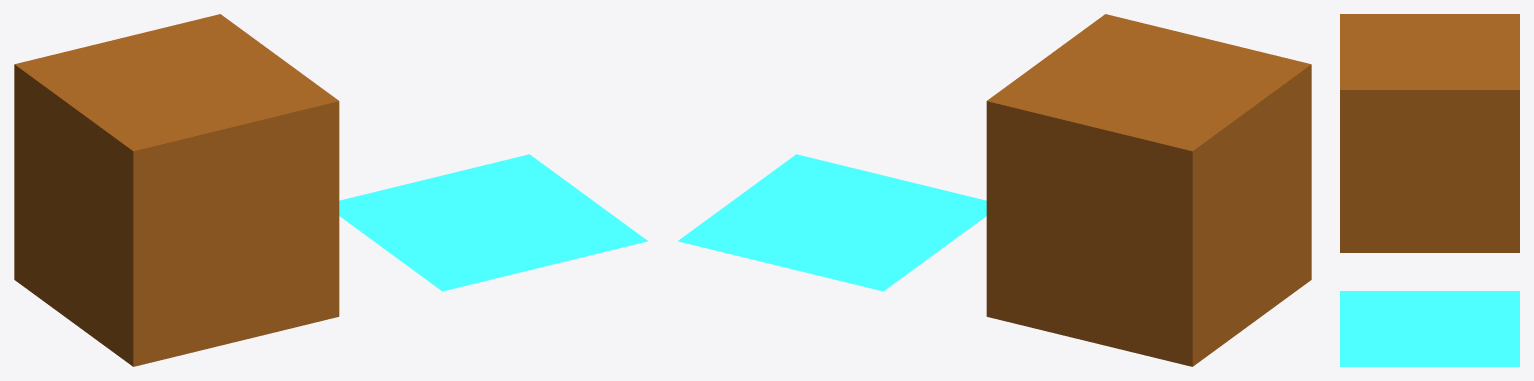
3 views of the same model, side by side, from view 1: azimuth 30°, elevation 25°; view 2: azimuth 150°, elevation 25°; view 3: azimuth 270°, elevation 25° (orthographic). The views are drawn at different scales.
Visible parts, largest first — view 1: VW.red.001, VW.blue.001; view 2: VW.red.001, VW.blue.001; view 3: VW.red.001, VW.blue.001.
Part boxes in pixels (<box>): VW.red.001: <box>14,14,339,366</box>; VW.blue.001: <box>339,154,647,291</box>; VW.red.001: <box>986,14,1311,366</box>; VW.blue.001: <box>678,154,986,291</box>; VW.red.001: <box>1340,14,1519,252</box>; VW.blue.001: <box>1340,291,1519,366</box>.
Size of the model in its own units: 2.5 by 1 by 1.
